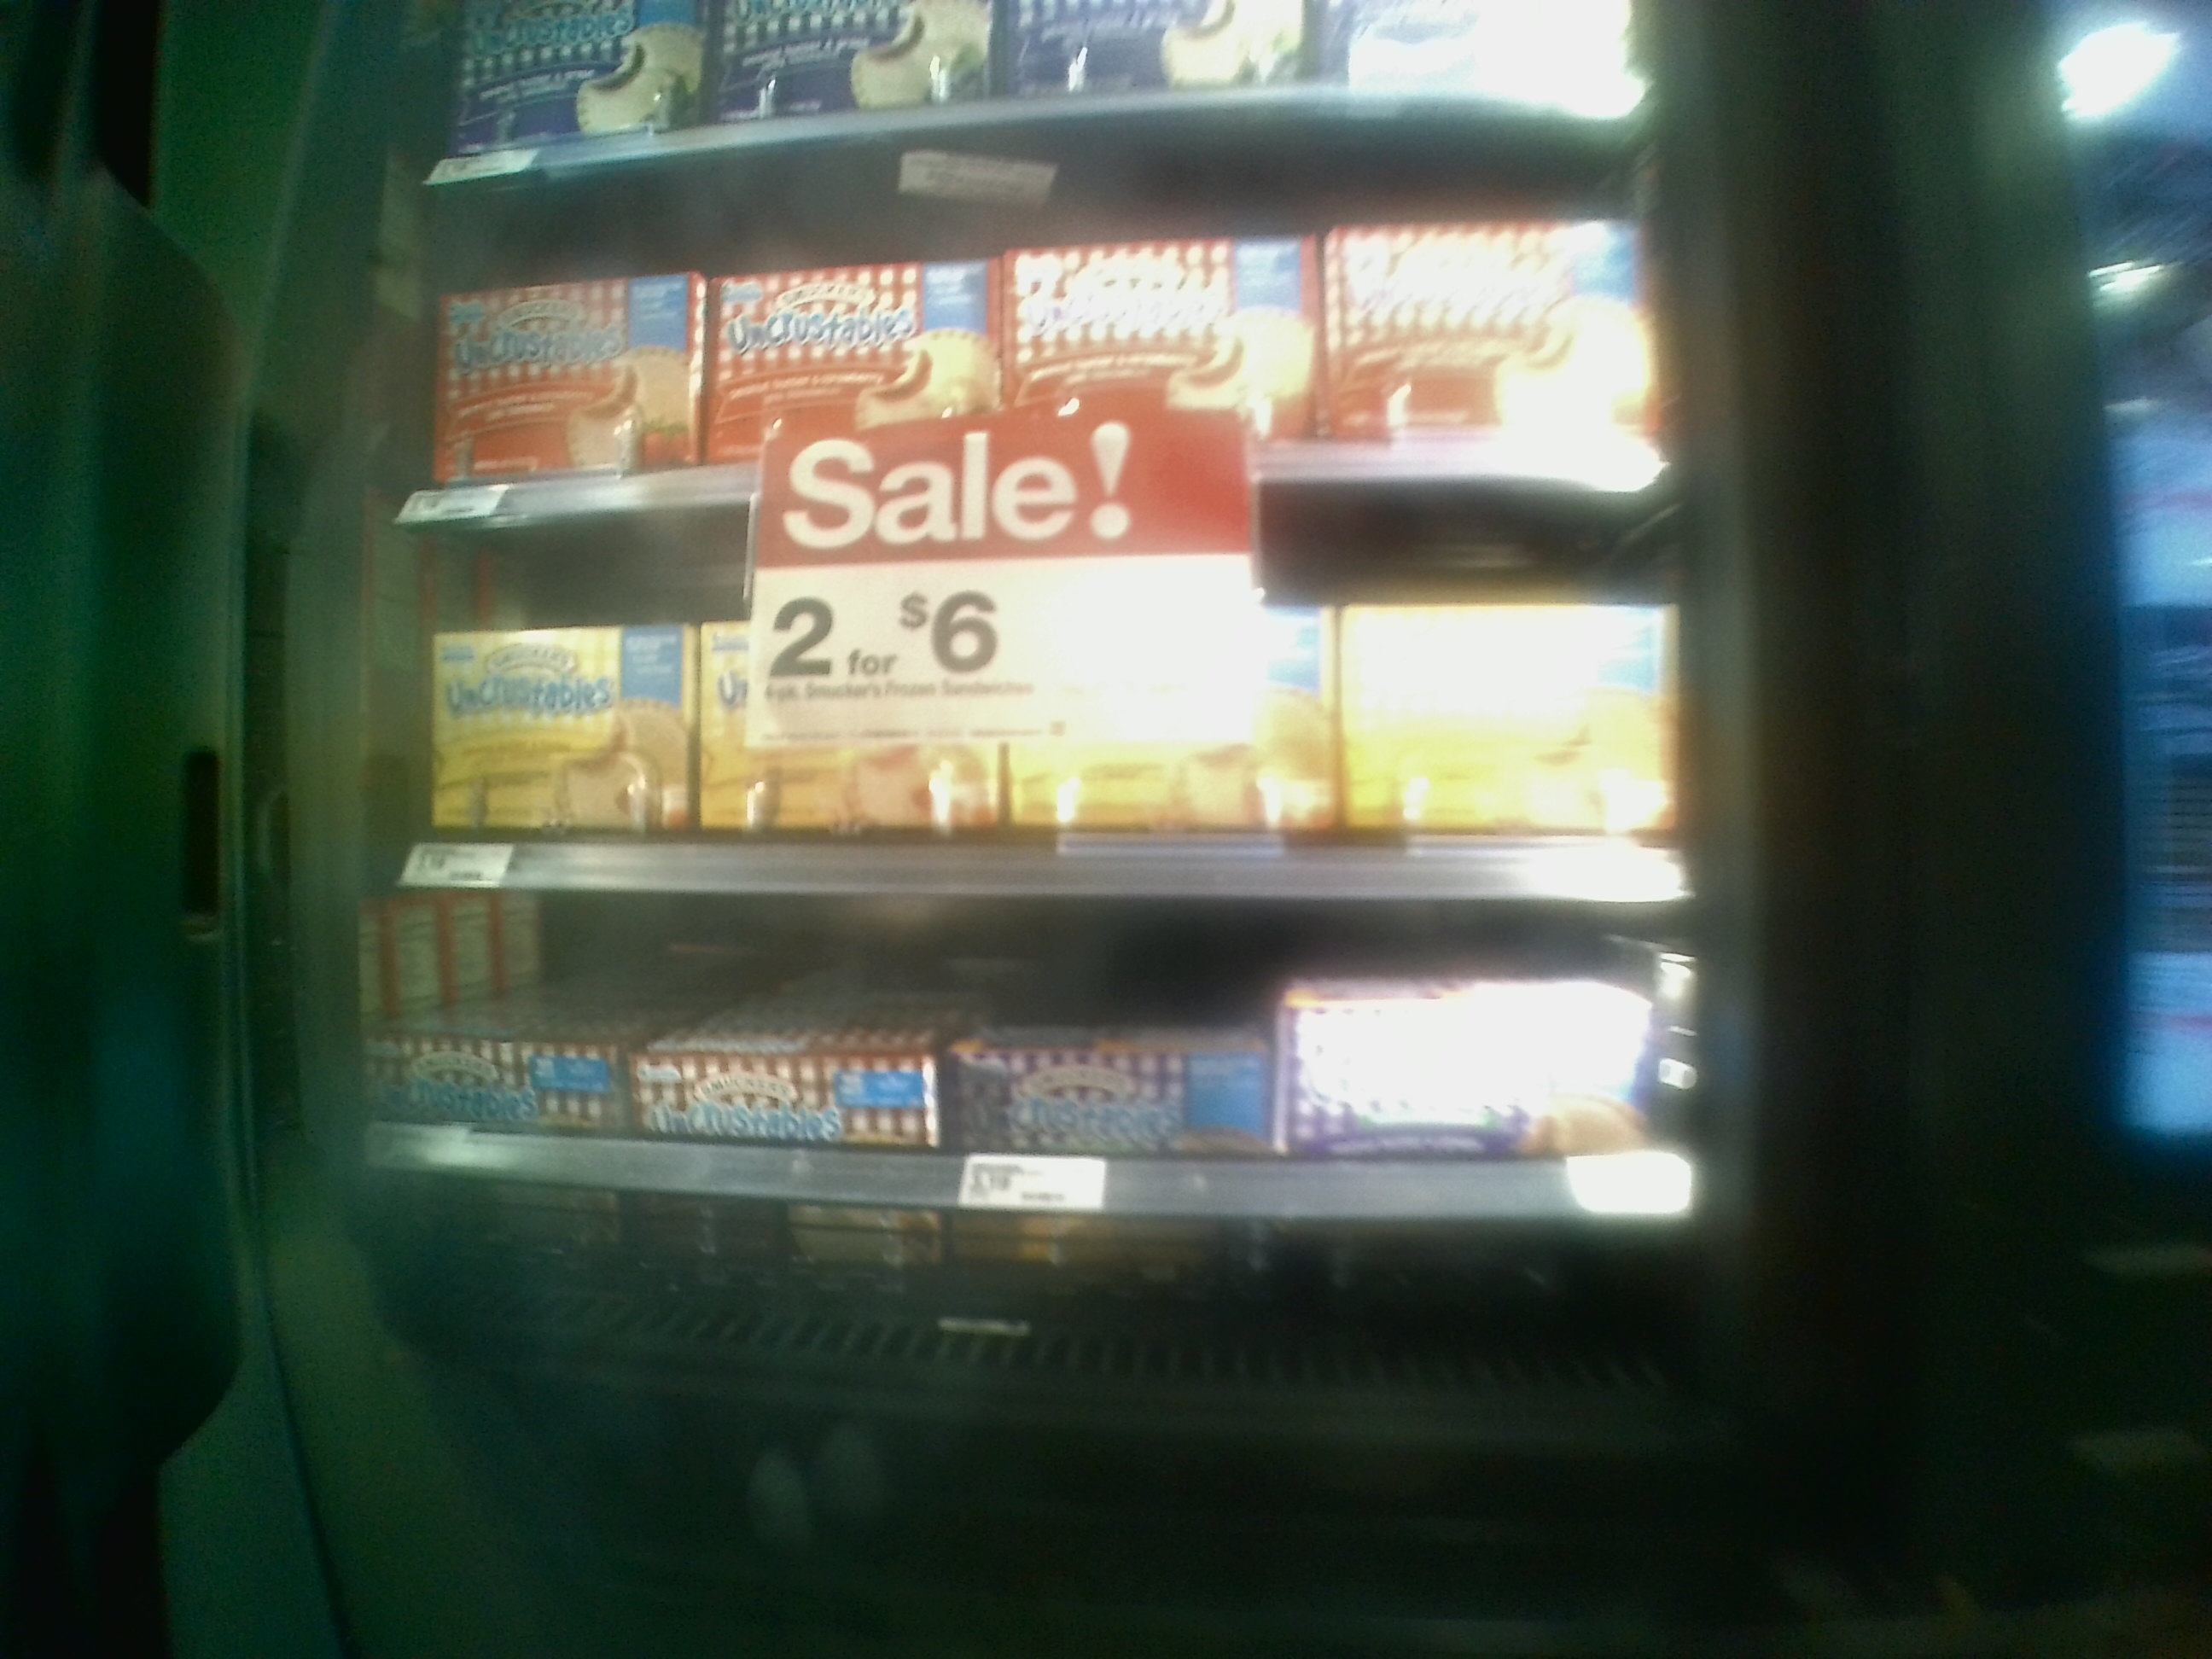shelf: (371, 903, 1719, 1384), (392, 535, 1702, 911), (402, 181, 1683, 530)
